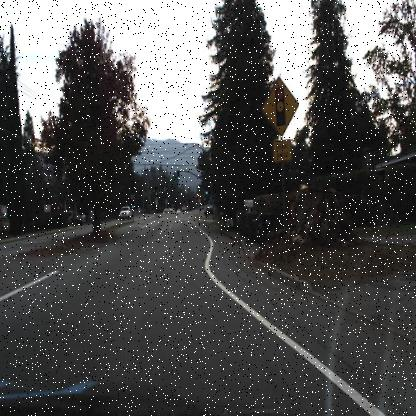car: (117, 204, 132, 226)
